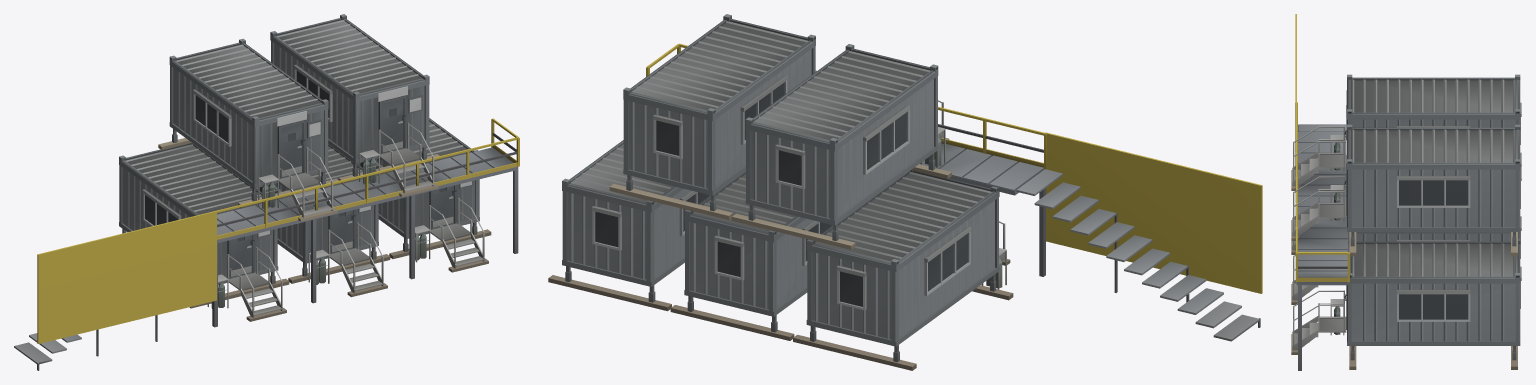
Rendered from cabins.glb.
The picture shows the model from 3 angles, left to right: view 1: azimuth 30°, elevation 25°; view 2: azimuth 150°, elevation 25°; view 3: azimuth 270°, elevation 25°; orthographic projection. The views are drawn at different scales.
Parts seen in each view (by area): view 1: cabins; view 2: cabins; view 3: cabins.
Boxes of the visible parts, x1,y1,x2,y2 form: cabins: [14, 14, 519, 370]; cabins: [548, 14, 1262, 370]; cabins: [1291, 14, 1521, 370].
Size of the model in its own units: 19.57 by 6.79 by 7.98.
